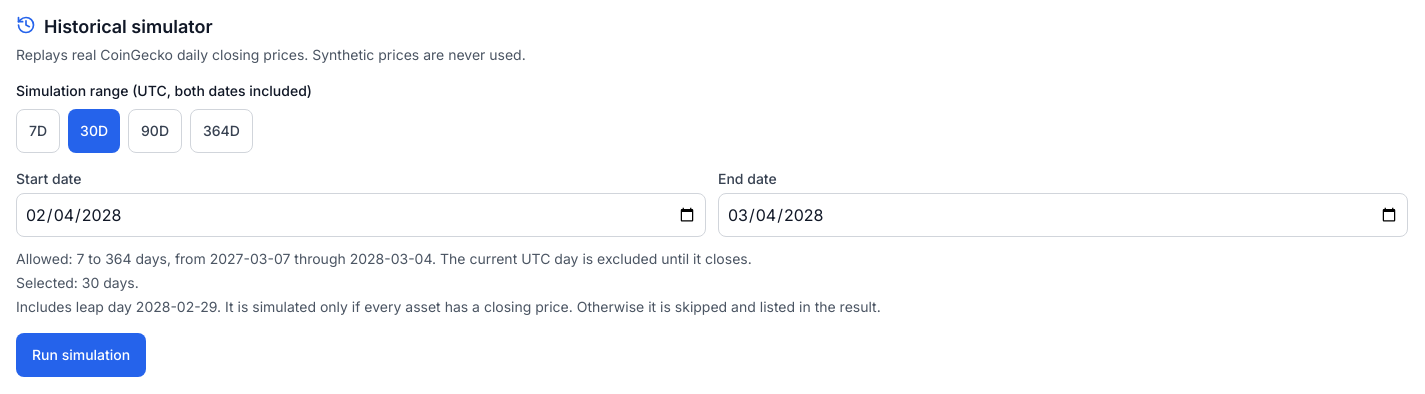
Test: HistoricalSimulator › states the exact limits and the leap day for a seven-day window
The width and height of the screenshot is (1425, 394).
Click the button named "Use the last 7 closed days": (38, 131) 16,109 -> 60,153
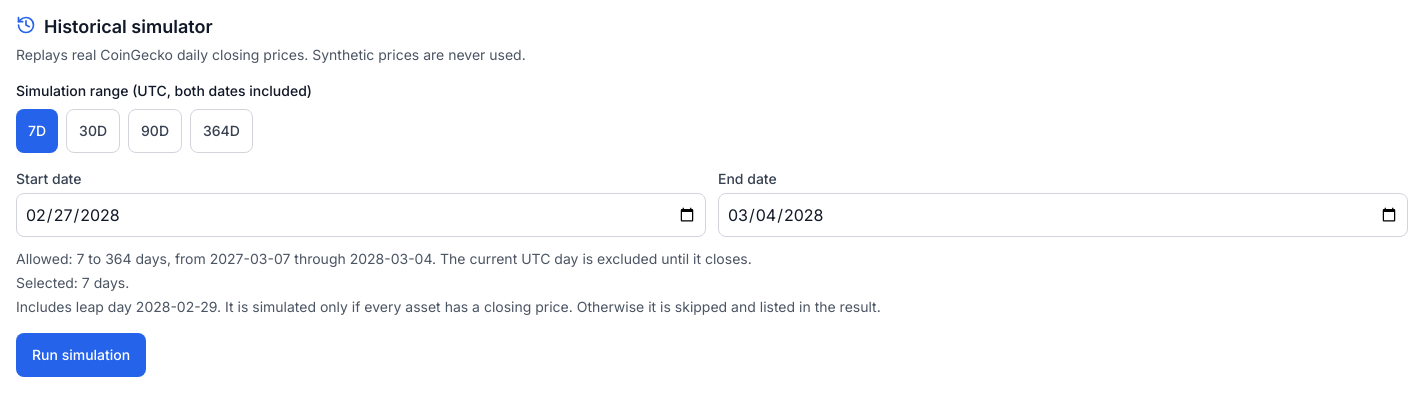
Check: the text "Allowed: 7 to 364 days, from 2027-03-07 through 2028-03-04" is shown, box 16,250 -> 752,267
Check: the text "Selected: 7 days." is shown, box 16,274 -> 129,291
